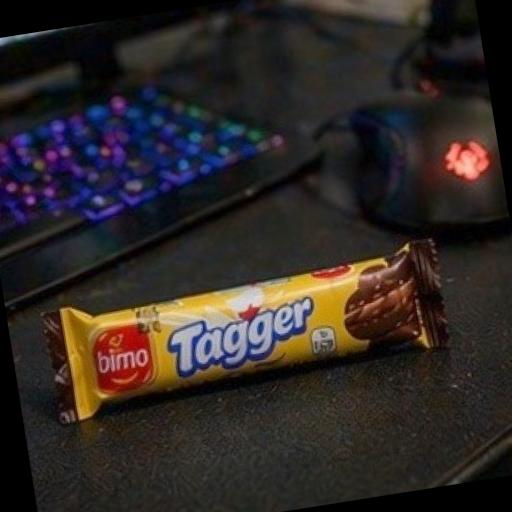tagger: (35, 184, 505, 460)
